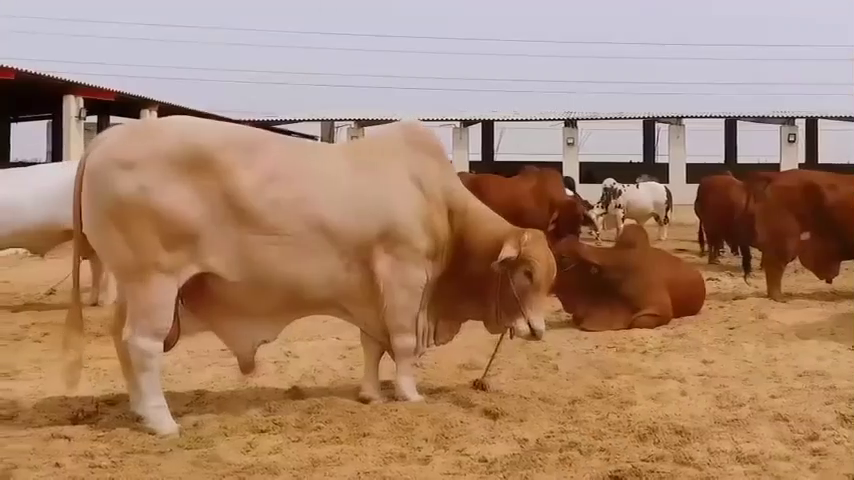bo: (66, 119, 556, 435), (543, 220, 706, 342), (734, 167, 854, 307), (2, 150, 110, 305), (446, 158, 602, 242), (589, 175, 687, 239), (685, 168, 748, 264)
